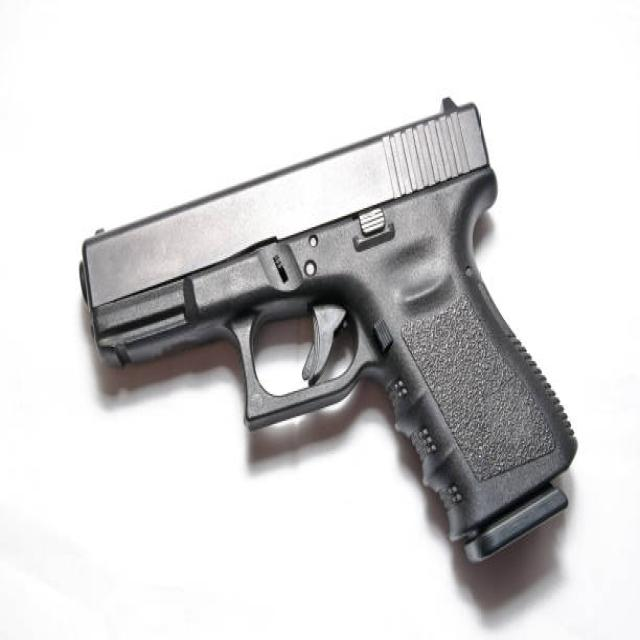pistol: (74, 81, 583, 577)
